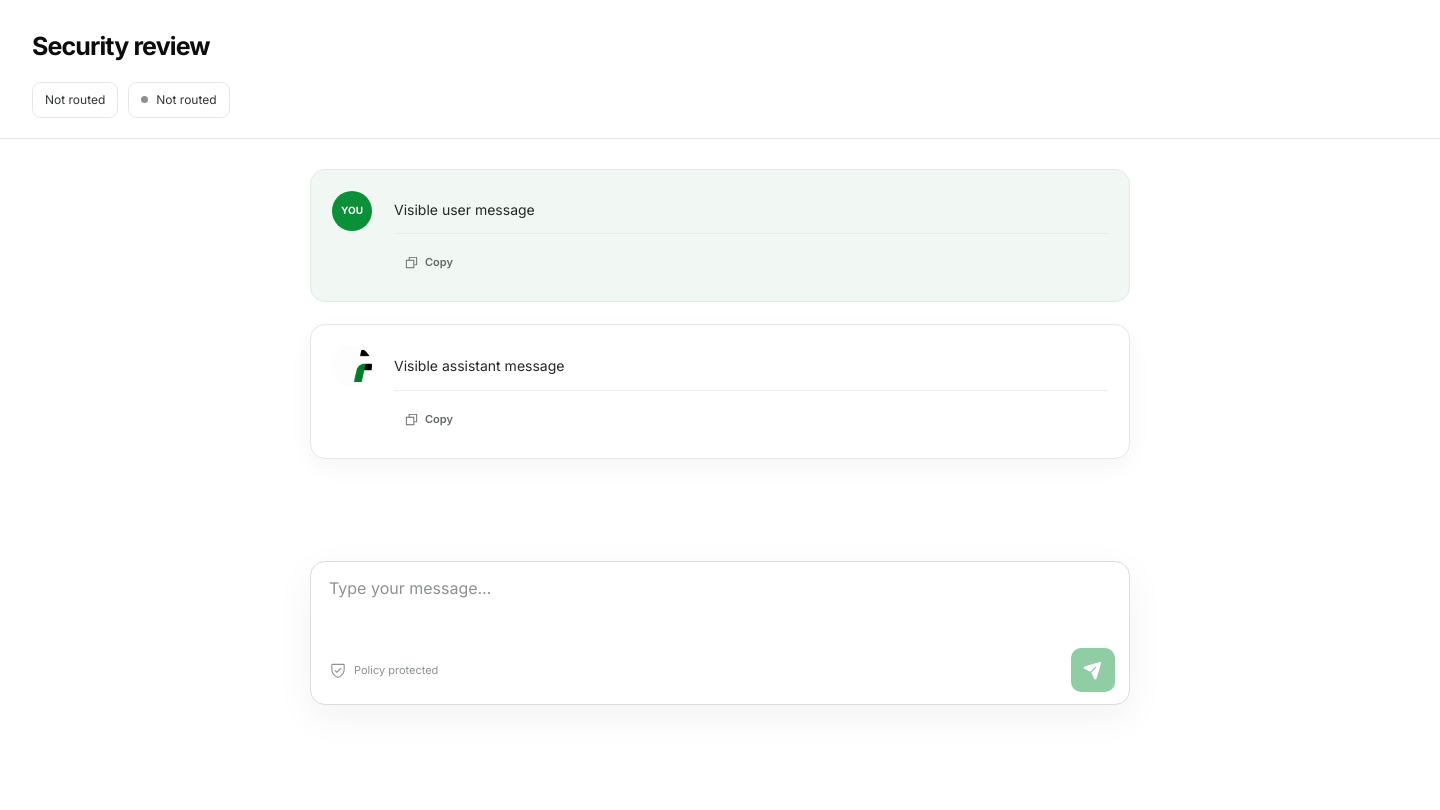
Test: chat message presentation › copies visible user and assistant messages with accessible safe feedback
Click the button with aria-label "Copy assistant message".
click(428, 419)  # box [394,401,463,437]
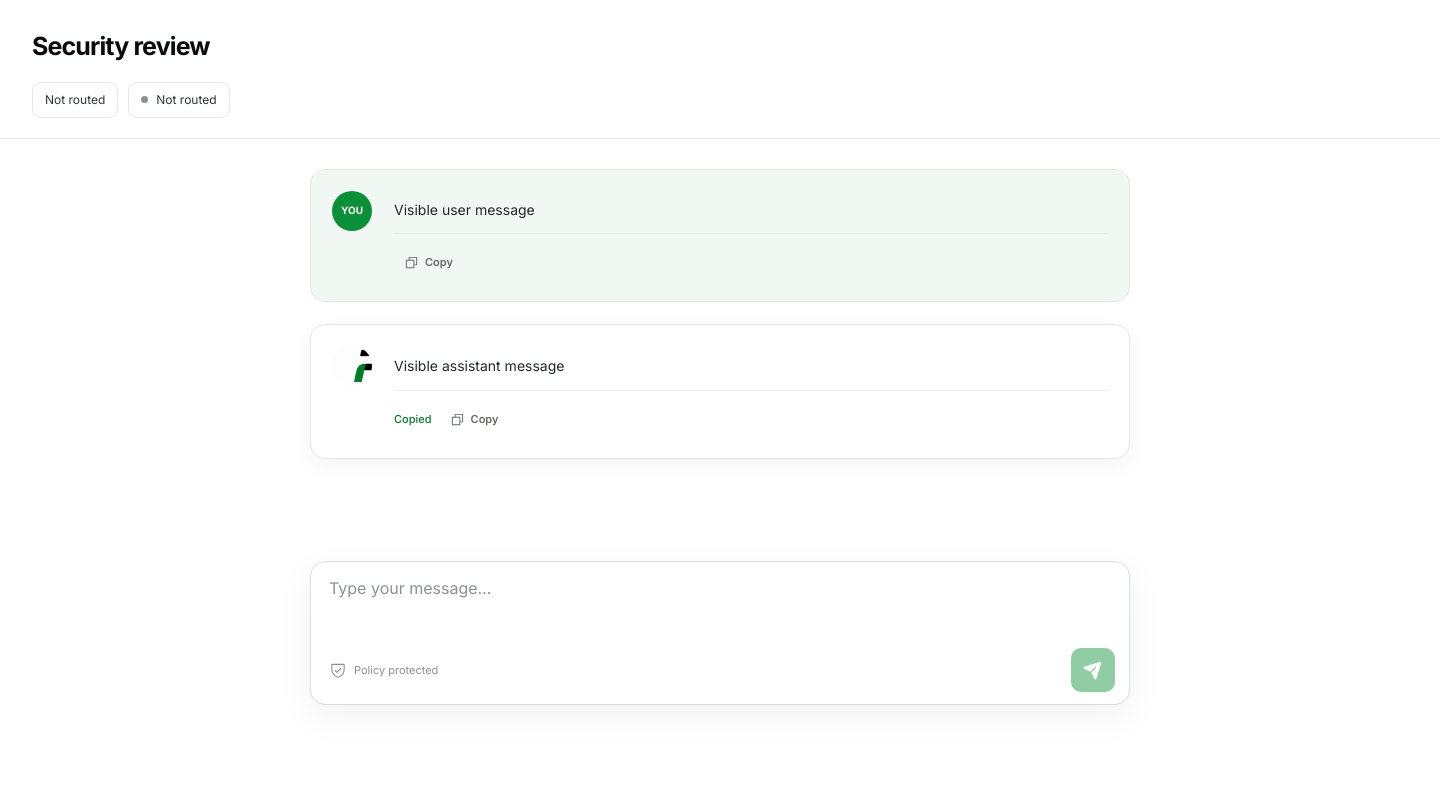
Expected: the text "Copied" is shown, [394,411,432,427]
Click the button with aria-label "Copy user message".
click(428, 262)  # box [394,244,463,280]
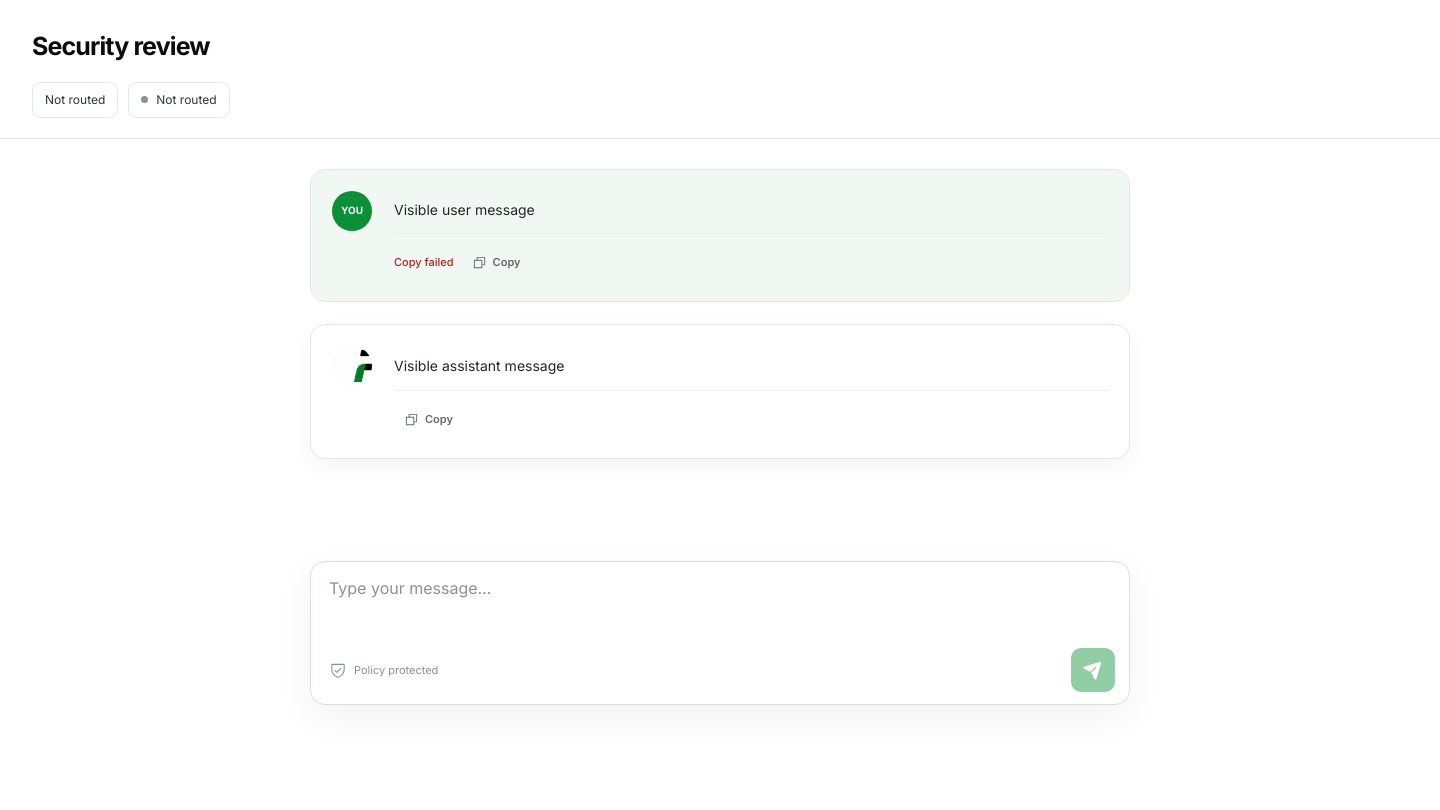
Expected: the text "Copy failed" is shown, [394,254,454,270]
